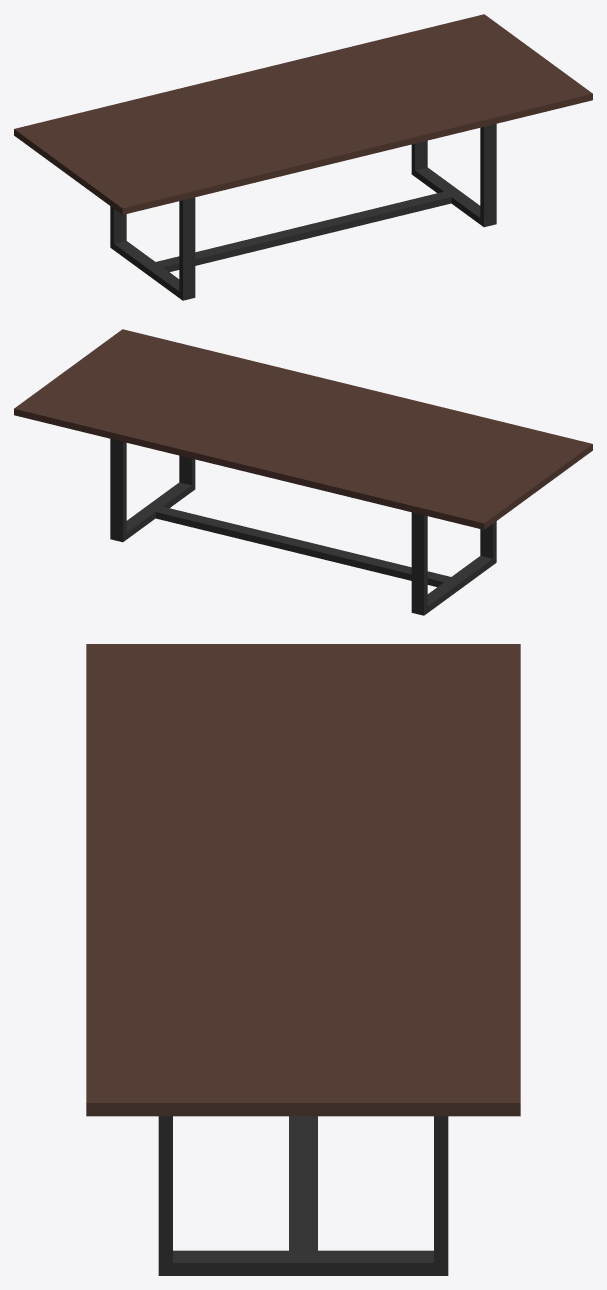
The picture shows the model from 3 angles, top to bottom: view 1: azimuth 30°, elevation 25°; view 2: azimuth 150°, elevation 25°; view 3: azimuth 270°, elevation 25°; orthographic projection. The views are drawn at different scales.
Visible parts, largest first — view 1: top, rail, loop, loop.001; view 2: top, rail, loop, loop.001; view 3: top, loop.001, rail.
Part boxes in pixels (left/top/right/bottom): top: left=14, top=14, right=592, bottom=214; rail: left=143, top=188, right=463, bottom=276; loop: left=110, top=197, right=195, bottom=300; loop.001: left=411, top=124, right=496, bottom=227; top: left=14, top=329, right=592, bottom=529; rail: left=143, top=503, right=463, bottom=591; loop: left=411, top=512, right=496, bottom=615; loop.001: left=110, top=439, right=195, bottom=542; top: left=86, top=644, right=520, bottom=1116; loop.001: left=158, top=1116, right=448, bottom=1275; rail: left=289, top=1116, right=317, bottom=1275.
Size of the model in its own units: 1.8 by 0.456 by 0.7199.
